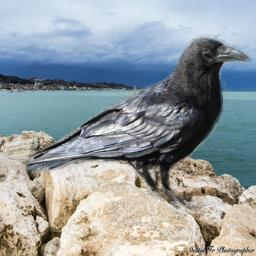Crow: (21, 34, 251, 215)
